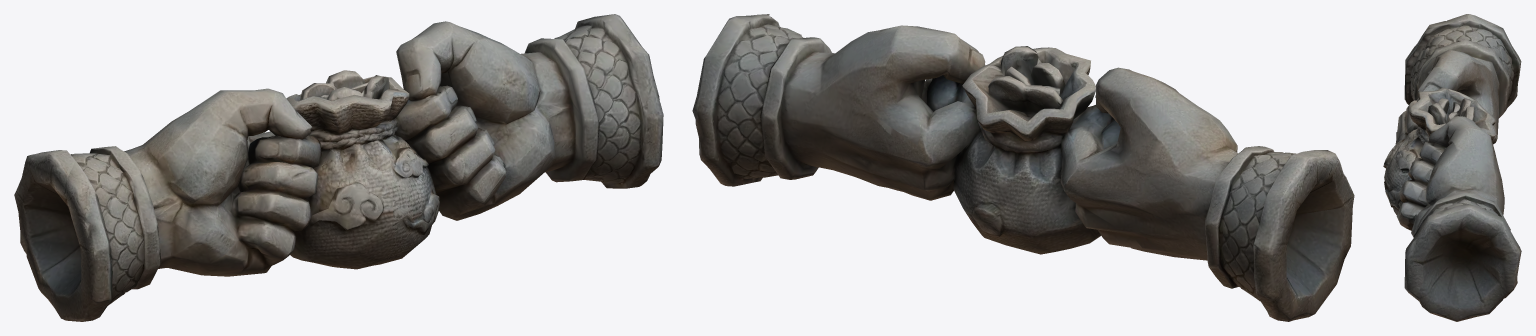
File: tg_jiecai.glb
The picture shows the model from 3 angles, left to right: view 1: azimuth 30°, elevation 25°; view 2: azimuth 150°, elevation 25°; view 3: azimuth 270°, elevation 25°; orthographic projection. The views are drawn at different scales.
Parts seen in each view (by area): view 1: tripo_node_2d2cd5dd-b89c-446d-bf94-6120d58e2557; view 2: tripo_node_2d2cd5dd-b89c-446d-bf94-6120d58e2557; view 3: tripo_node_2d2cd5dd-b89c-446d-bf94-6120d58e2557.
Part boxes in pixels (x1,y1,x2,y2): tripo_node_2d2cd5dd-b89c-446d-bf94-6120d58e2557: (14, 14, 663, 321); tripo_node_2d2cd5dd-b89c-446d-bf94-6120d58e2557: (692, 14, 1354, 321); tripo_node_2d2cd5dd-b89c-446d-bf94-6120d58e2557: (1383, 14, 1521, 321).
Bounding box in the file's own units: 0.98 × 0.3191 × 0.2878.
Materials: 1 (1 with a texture image).
